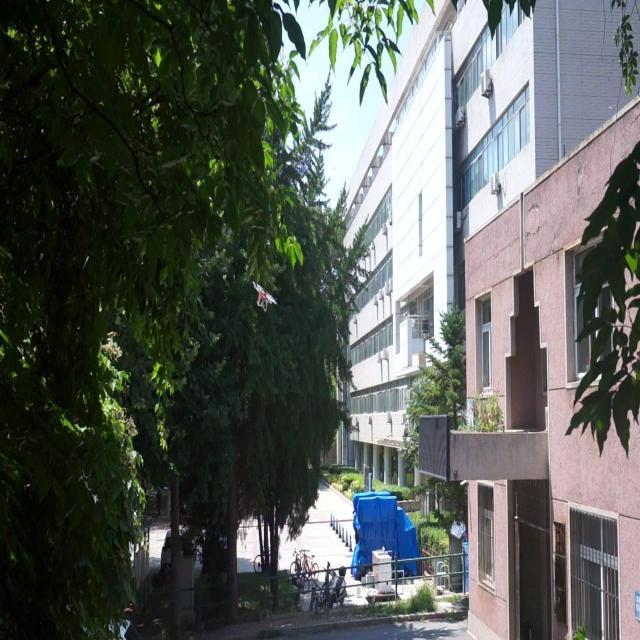UAV: (252, 280, 278, 313)
